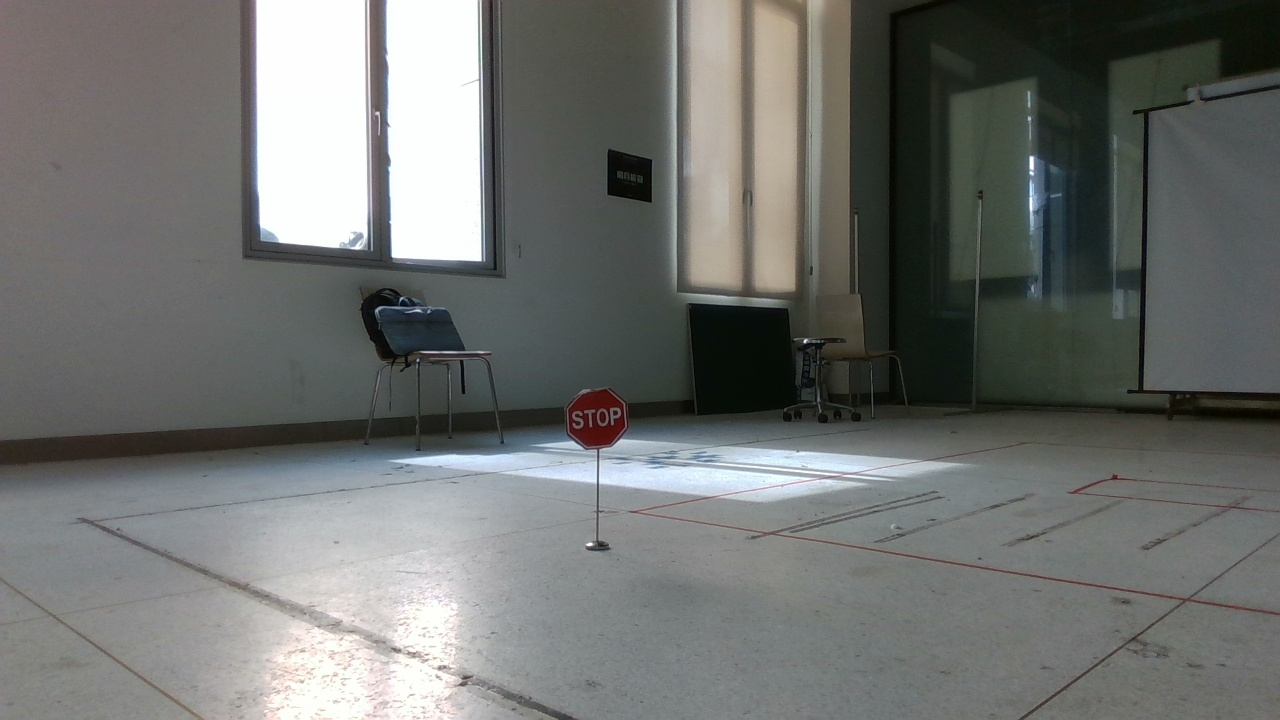stop_sign: (556, 370, 641, 449)
